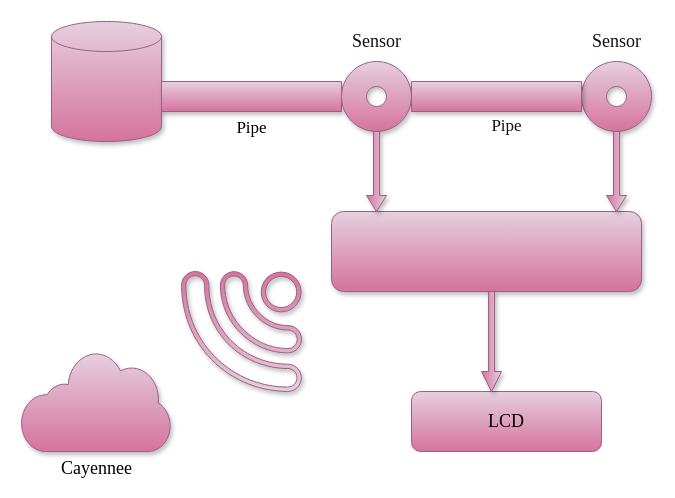
Image size: 675x498. Some labels were removed from this diagram. Each missing label, with the centre of its shape:
nodeMCU (ESP8266): (x=487, y=252)
WATER TANK: (x=107, y=82)
